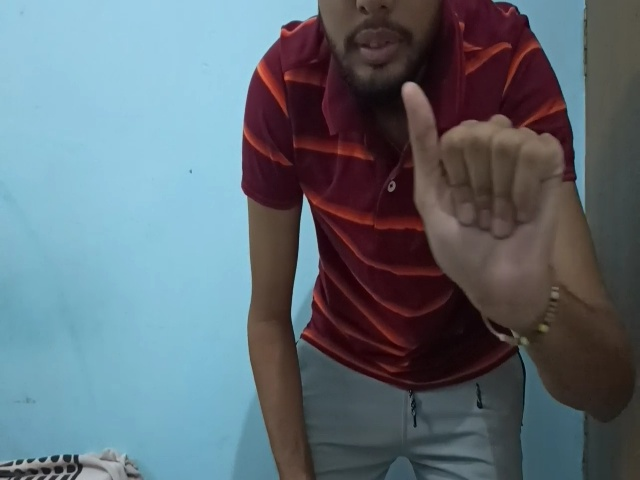A: (402, 82, 570, 334)
